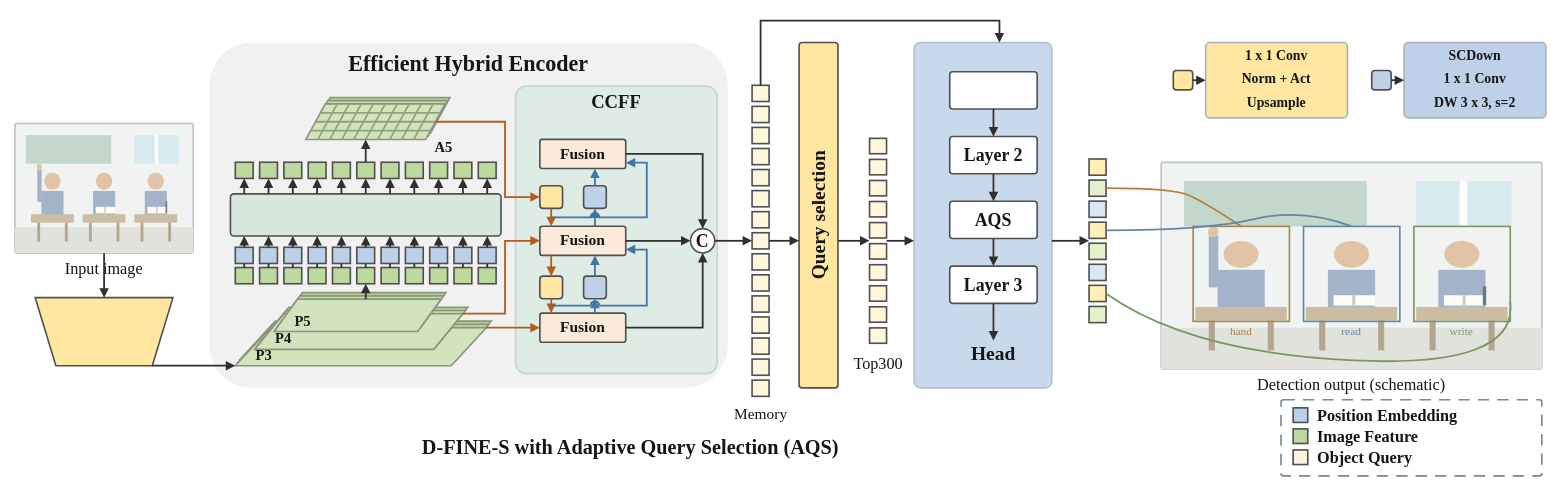
Image size: 1560x491. Some labels were removed from this diagram. Here are the shapes that lost their labels. From the top down, the centre of each, then its label:
At (993,89): "Layer 1".
At (365,214): "AIFI".
At (930,203): "Decoder & Head".
At (103,331): "Backbone".
